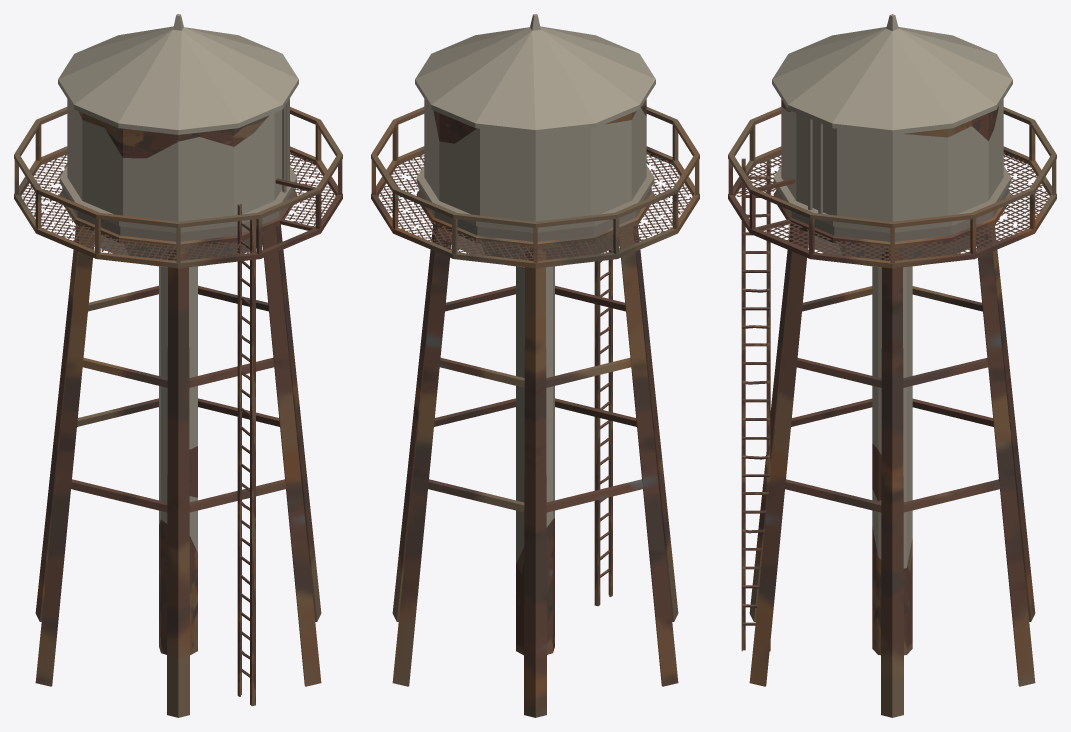
Rendered from SM_Bld_WaterTower_01.obj.
The picture shows the model from 3 angles, left to right: view 1: azimuth 30°, elevation 25°; view 2: azimuth 150°, elevation 25°; view 3: azimuth 270°, elevation 25°; orthographic projection.
Visible parts, largest first — view 1: SM_Bld_WaterTower_01_0, SM_Bld_WaterTower_01_1; view 2: SM_Bld_WaterTower_01_0, SM_Bld_WaterTower_01_1; view 3: SM_Bld_WaterTower_01_0, SM_Bld_WaterTower_01_1.
Boxes of the visible parts, box(x1,y1,x2,y2) form: SM_Bld_WaterTower_01_0: box(14, 14, 342, 717); SM_Bld_WaterTower_01_1: box(21, 152, 335, 260); SM_Bld_WaterTower_01_0: box(371, 14, 699, 717); SM_Bld_WaterTower_01_1: box(378, 152, 693, 260); SM_Bld_WaterTower_01_0: box(728, 14, 1056, 717); SM_Bld_WaterTower_01_1: box(735, 152, 1049, 260).
Bounding box in the file's own units: 5.98 × 12.71 × 5.96.
2 materials, 2 textured.
